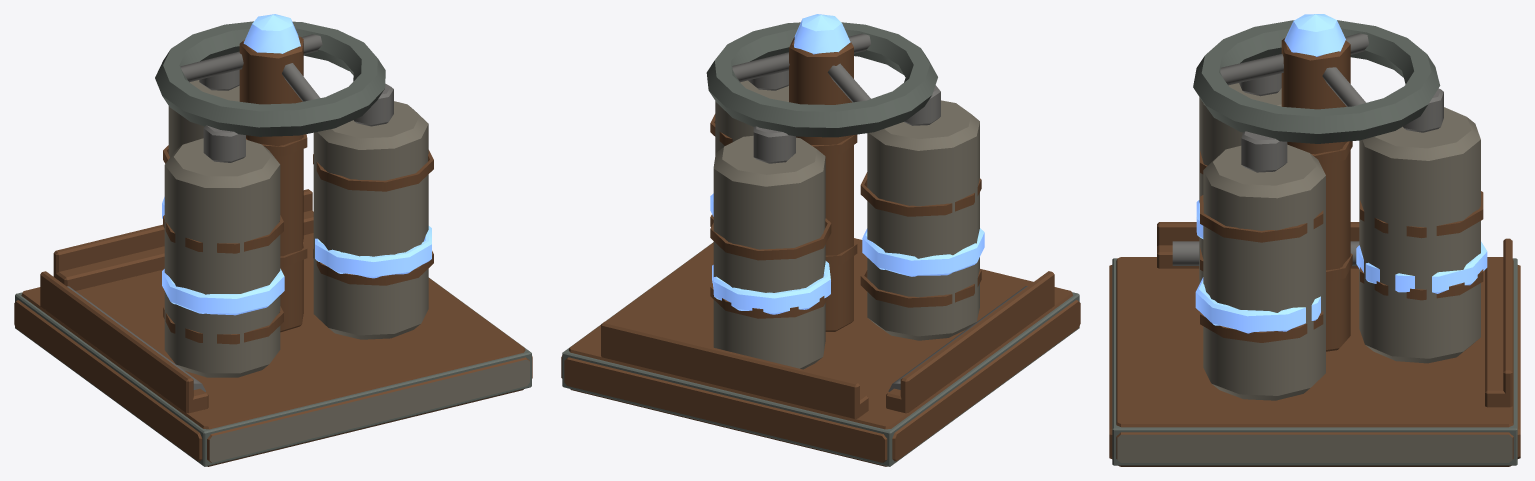
File: R4X_ChargeRegenerator.fbx
The picture shows the model from 3 angles, left to right: view 1: azimuth 30°, elevation 25°; view 2: azimuth 150°, elevation 25°; view 3: azimuth 270°, elevation 25°; orthographic projection. The views are drawn at different scales.
Parts seen in each view (by area): view 1: R4X_ChargeRegenerator_Body; view 2: R4X_ChargeRegenerator_Body; view 3: R4X_ChargeRegenerator_Body.
Boxes of the visible parts, x1=… form: R4X_ChargeRegenerator_Body: x1=14, y1=14, x2=532, y2=466; R4X_ChargeRegenerator_Body: x1=561, y1=14, x2=1080, y2=466; R4X_ChargeRegenerator_Body: x1=1109, y1=14, x2=1520, y2=466.
Bounding box in the file's own units: 0.52 × 0.515 × 0.52.
